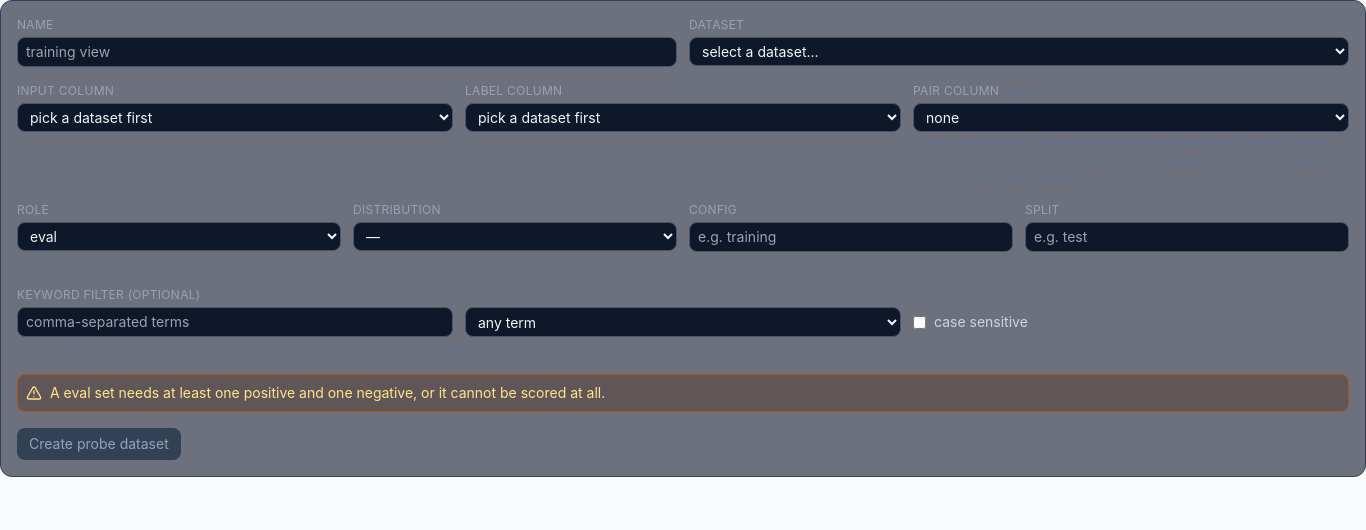
Scenario: ProbeDatasetForm reads its choices from the data › reports a samples failure rather than rendering empty pickers
The width and height of the screenshot is (1366, 530).
Select "models-under-pressure (training)" in the dropdown labelled "Dataset" at (1019, 52), box [689,37,1349,66]
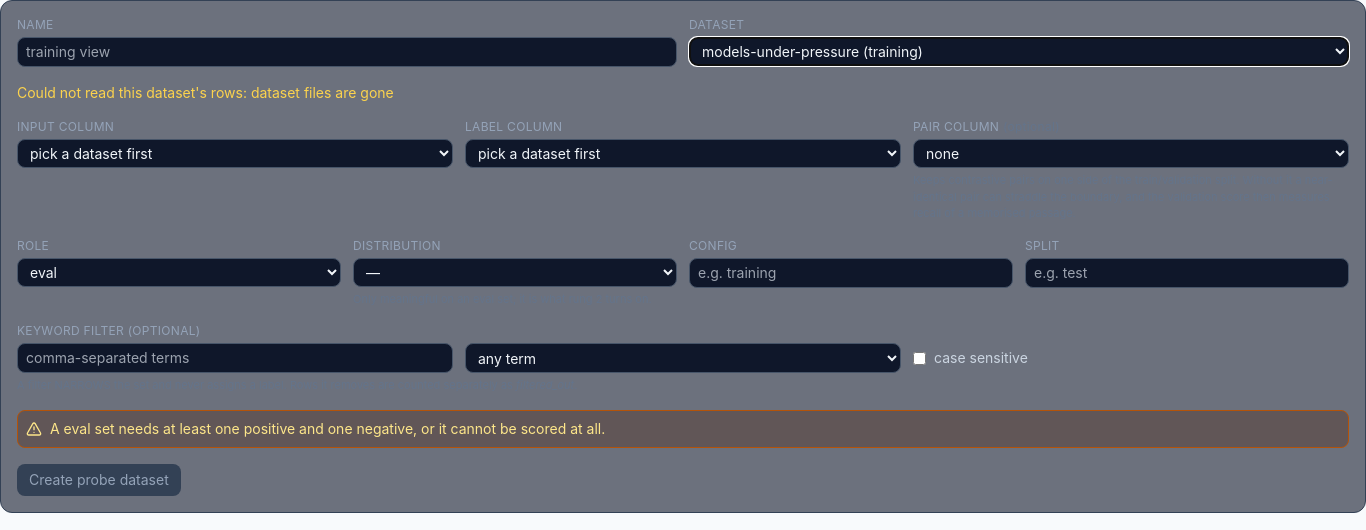
Expected: the text with test id "sample-error" shows "files are gone", [251,84,394,101]
